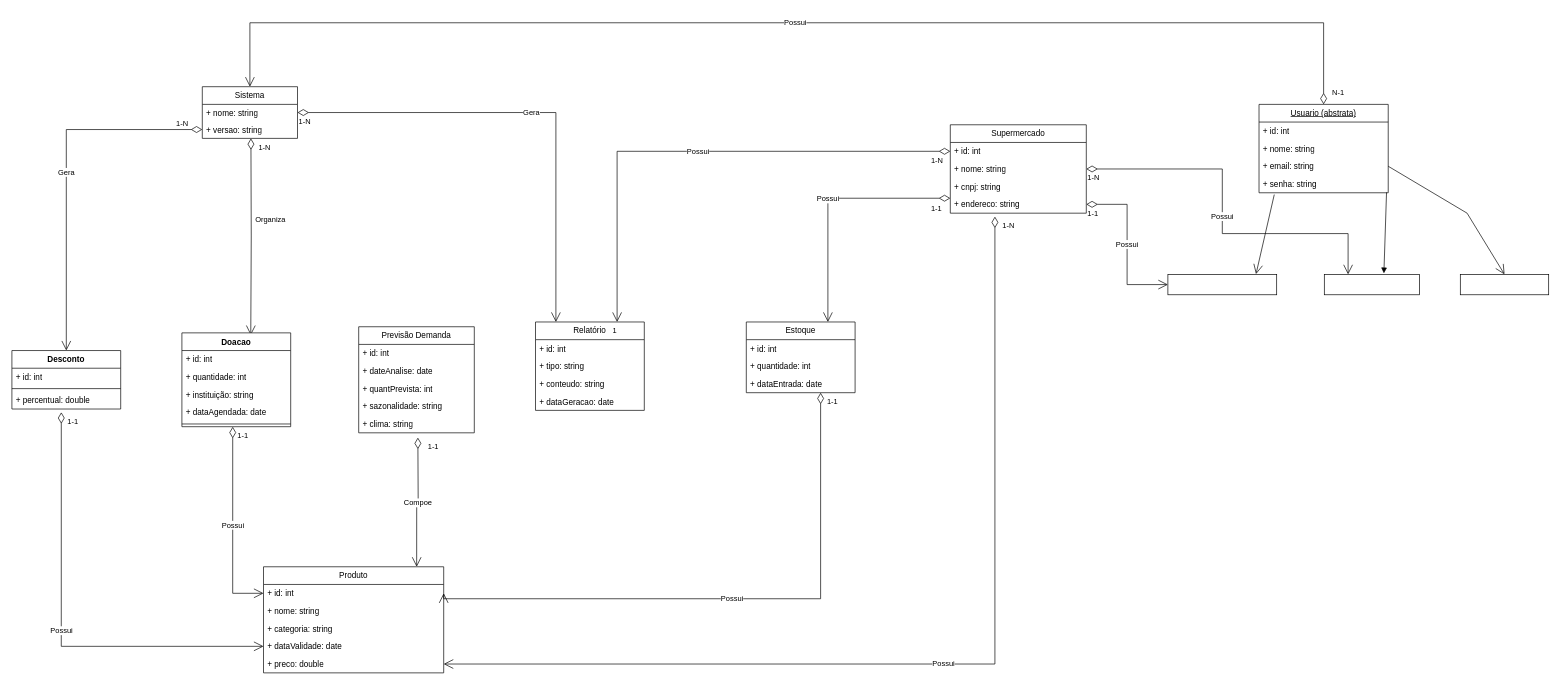
Some shapes in this 1561 by 687 pixel diagram are drawn without their labels. Each missing label, with the centre of its shape:
"DonoSupermercado" goes at pixel 1222 284.
"GestorEstoque" goes at pixel 1372 284.
"PessoaComum" goes at pixel 1504 284.
